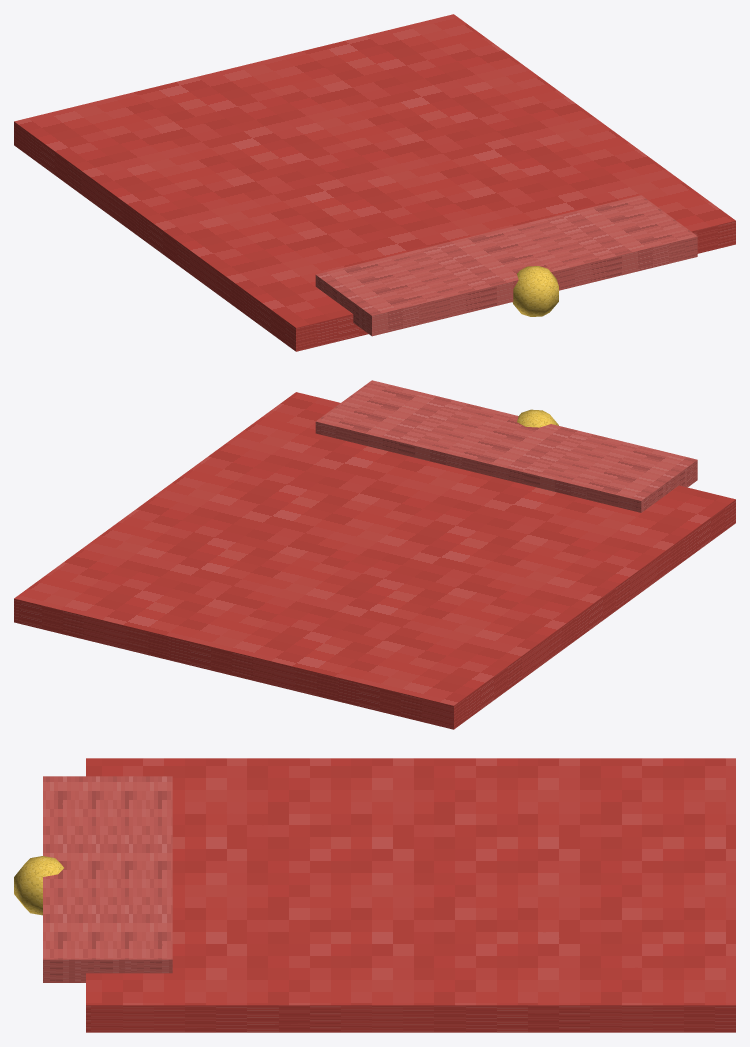
File: capa.glb
3 renders of one model, top to bottom at view 1: azimuth 30°, elevation 25°; view 2: azimuth 150°, elevation 25°; view 3: azimuth 270°, elevation 25°, orthographic. The views are drawn at different scales.
Parts seen in each view (by area): view 1: _MeshInstance3D_63, _MeshInstance3D_64, _MeshInstance3D_65; view 2: _MeshInstance3D_63, _MeshInstance3D_64; view 3: _MeshInstance3D_63, _MeshInstance3D_64, _MeshInstance3D_65.
Boxes of the visible parts, x1,y1,x2,y2 form: _MeshInstance3D_63: (14,14,735,351); _MeshInstance3D_64: (315,195,697,336); _MeshInstance3D_65: (512,266,558,316); _MeshInstance3D_63: (14,392,735,729); _MeshInstance3D_64: (315,380,697,512); _MeshInstance3D_63: (86,758,735,1032); _MeshInstance3D_64: (43,776,172,982); _MeshInstance3D_65: (14,856,63,915).
Size of the model in its own units: 0.27 by 0.028 by 0.3333.
Materials: 3 (3 with a texture image).
